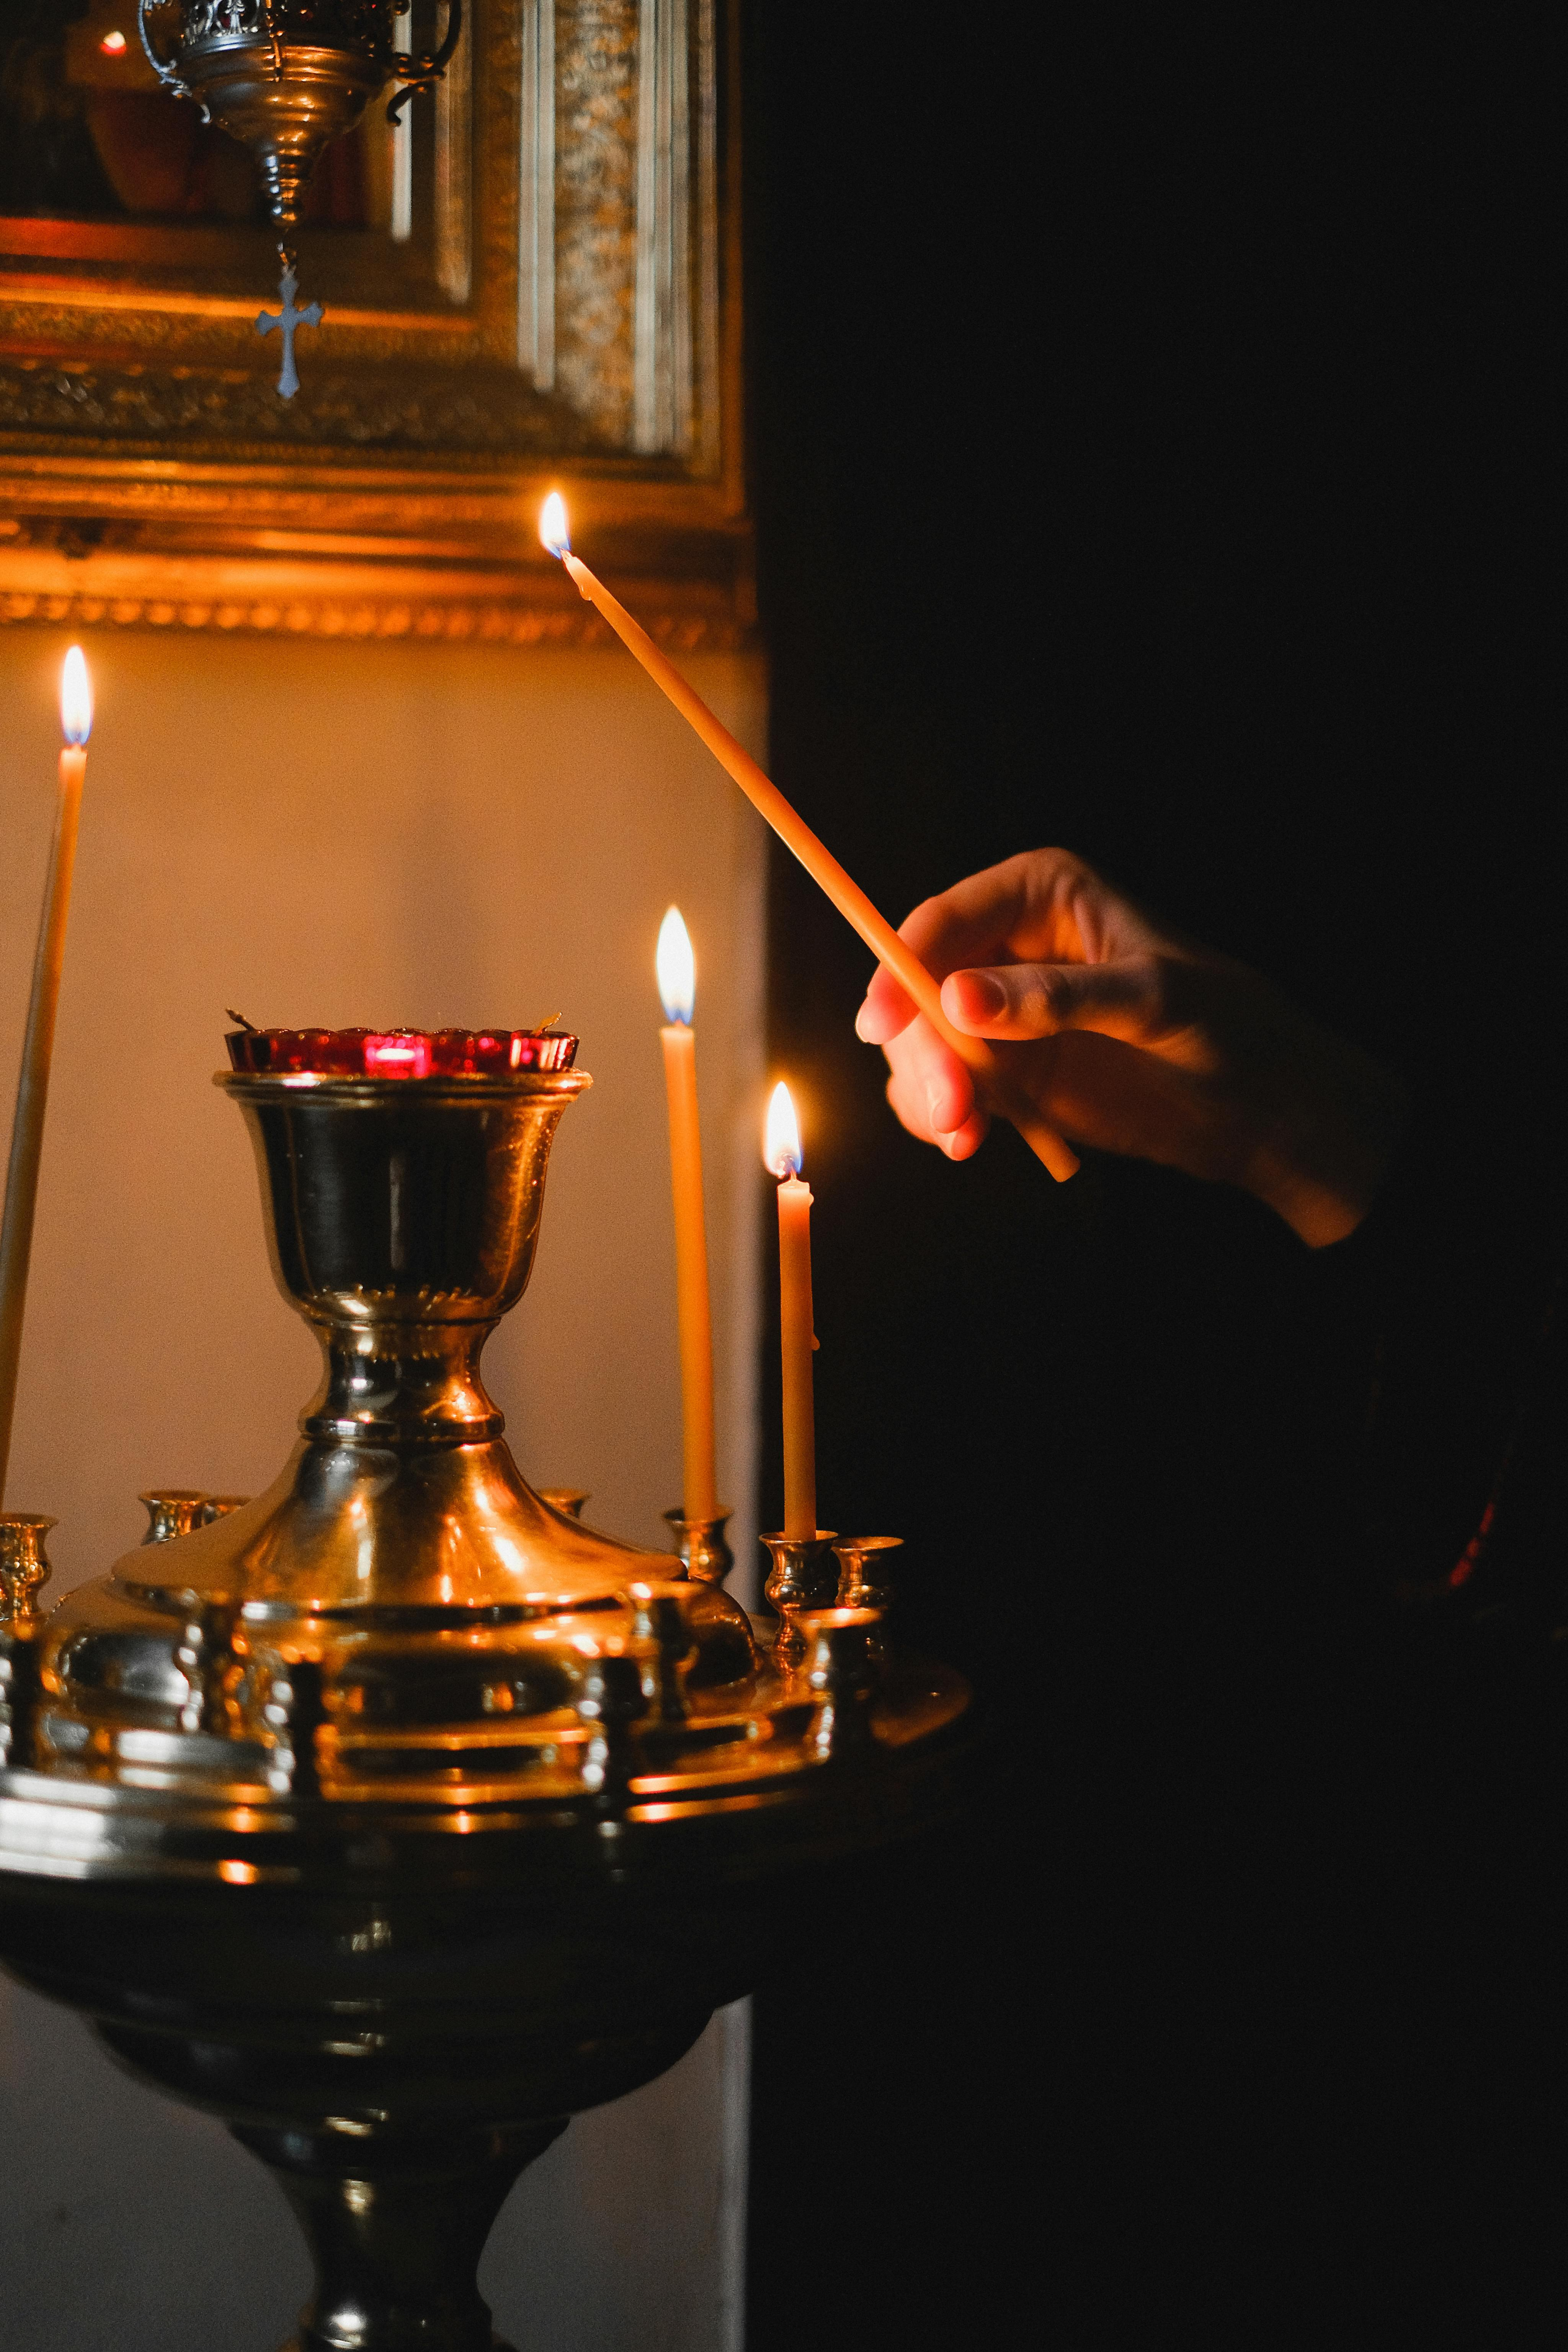Fire: (12, 456, 857, 1167)
